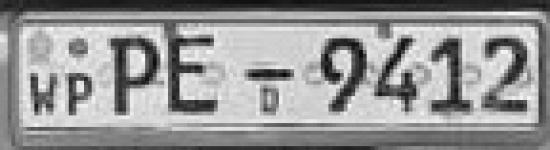-: (241, 65, 304, 86)
1: (427, 30, 477, 121)
2: (480, 28, 533, 118)
4: (372, 29, 422, 117)
9: (316, 28, 372, 115)
E: (163, 30, 229, 122)
P: (102, 30, 162, 116), (64, 66, 102, 120)
W: (25, 68, 62, 119)
